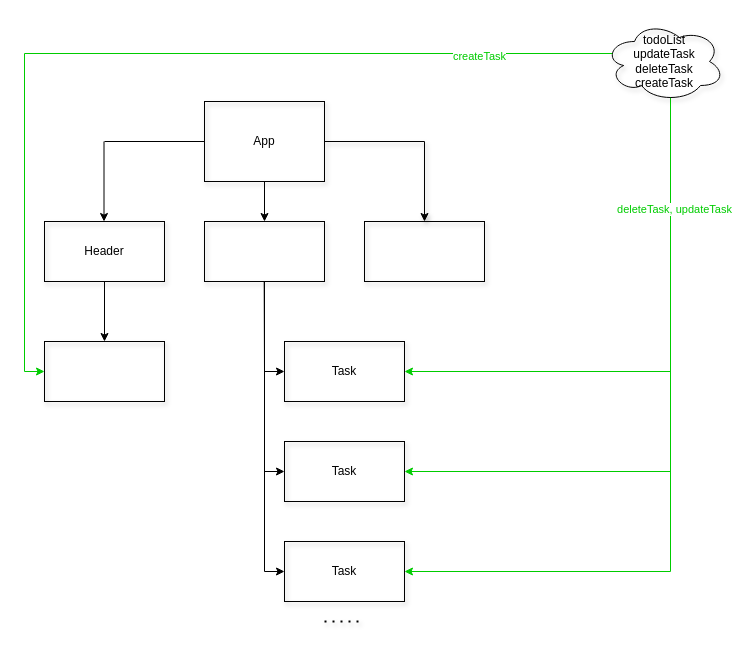
Some shapes in this 749 by 648 pixel diagram are drawn without their labels. Each missing label, with the centre of its shape:
"Add ToDo" goes at [105,372].
"Footer" goes at [425,252].
"TaskList" goes at [265,252].
